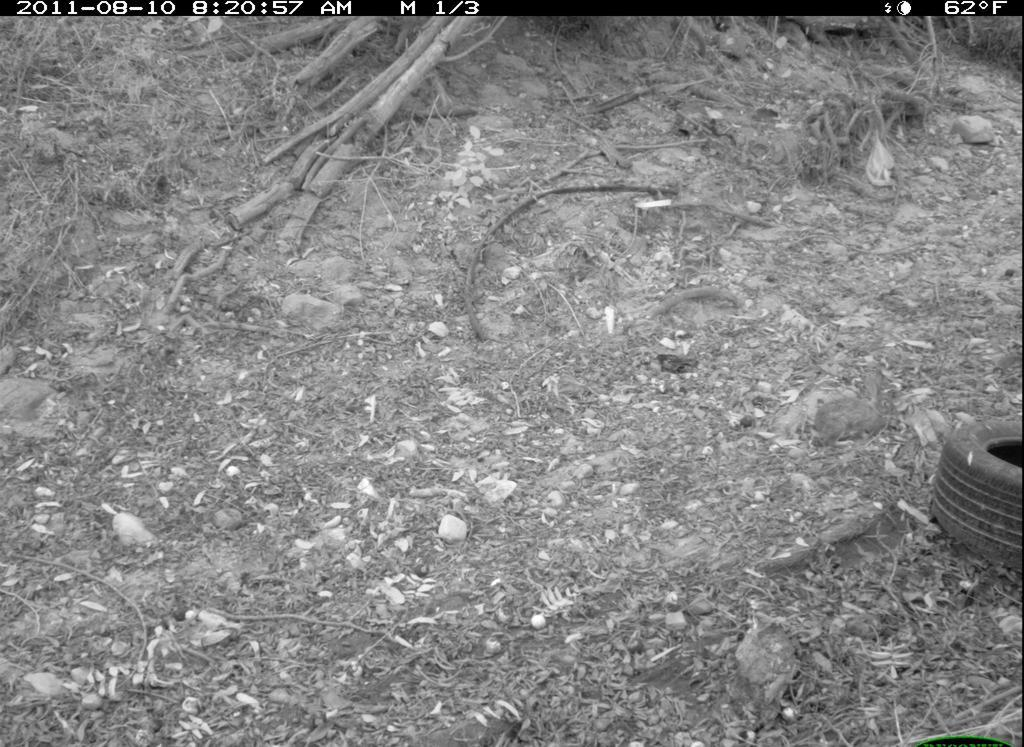rabbit: (808, 368, 902, 450)
